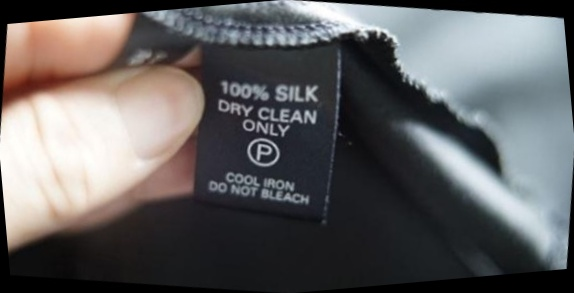dry_clean_any_solvent_except_trichloroethylene: (244, 133, 285, 171)
